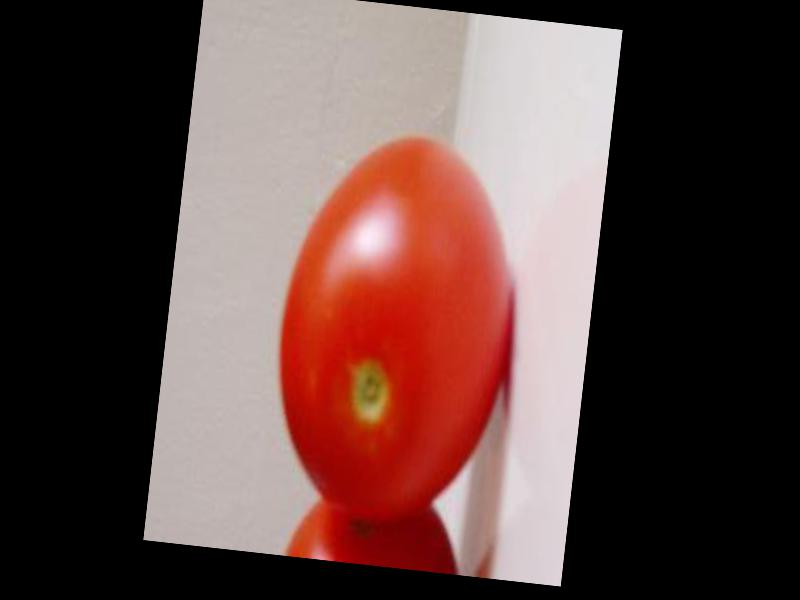Tomato: (262, 124, 528, 528)
